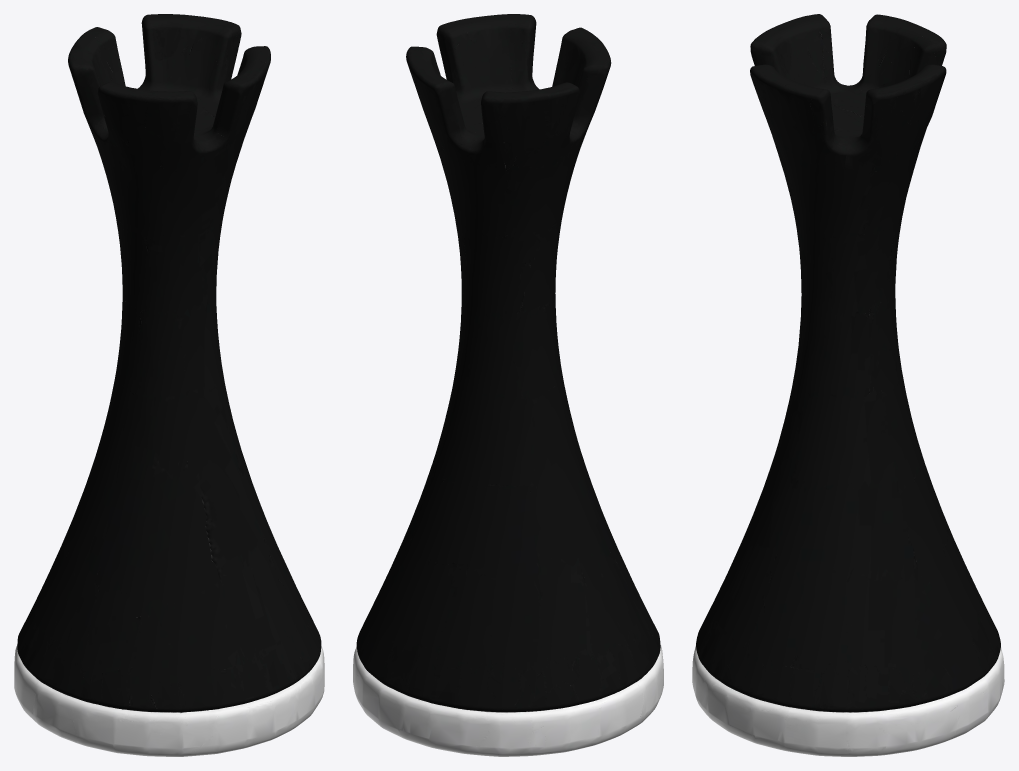
Rendered from bishop-black-hd.glb.
3 renders of one model, left to right at view 1: azimuth 30°, elevation 25°; view 2: azimuth 150°, elevation 25°; view 3: azimuth 270°, elevation 25°, orthographic.
Bounding box in the file's own units: 0.5837 × 1.32 × 0.583.
Materials: 1 (1 with a texture image).
